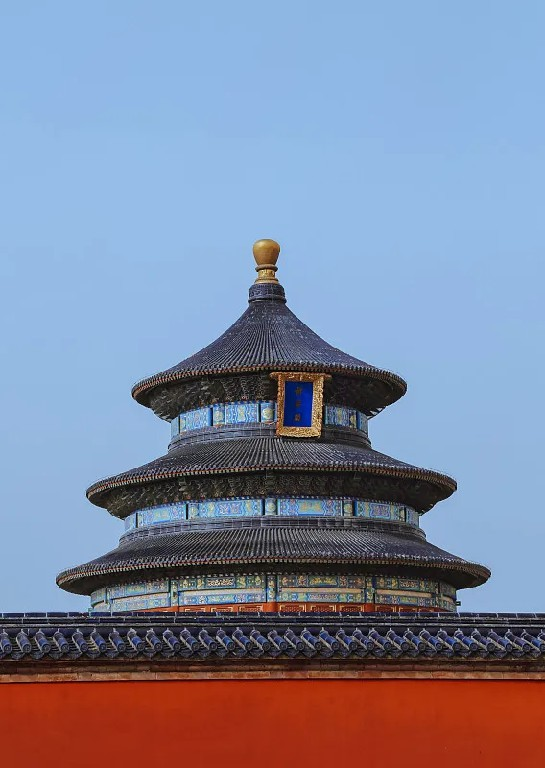Heaven: (50, 237, 491, 613)
